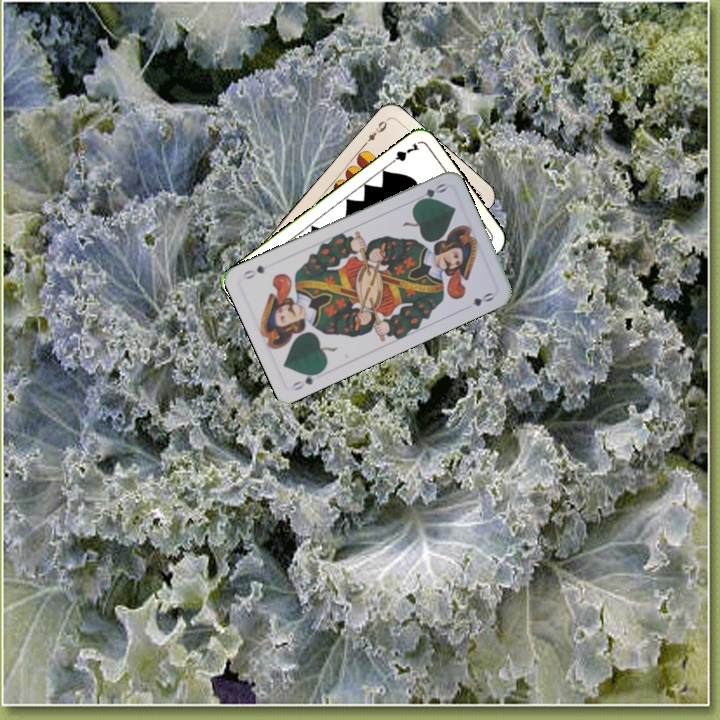E9: (360, 115, 391, 149)
G7: (385, 139, 421, 167)
GO: (410, 179, 449, 207), (288, 366, 325, 393)
